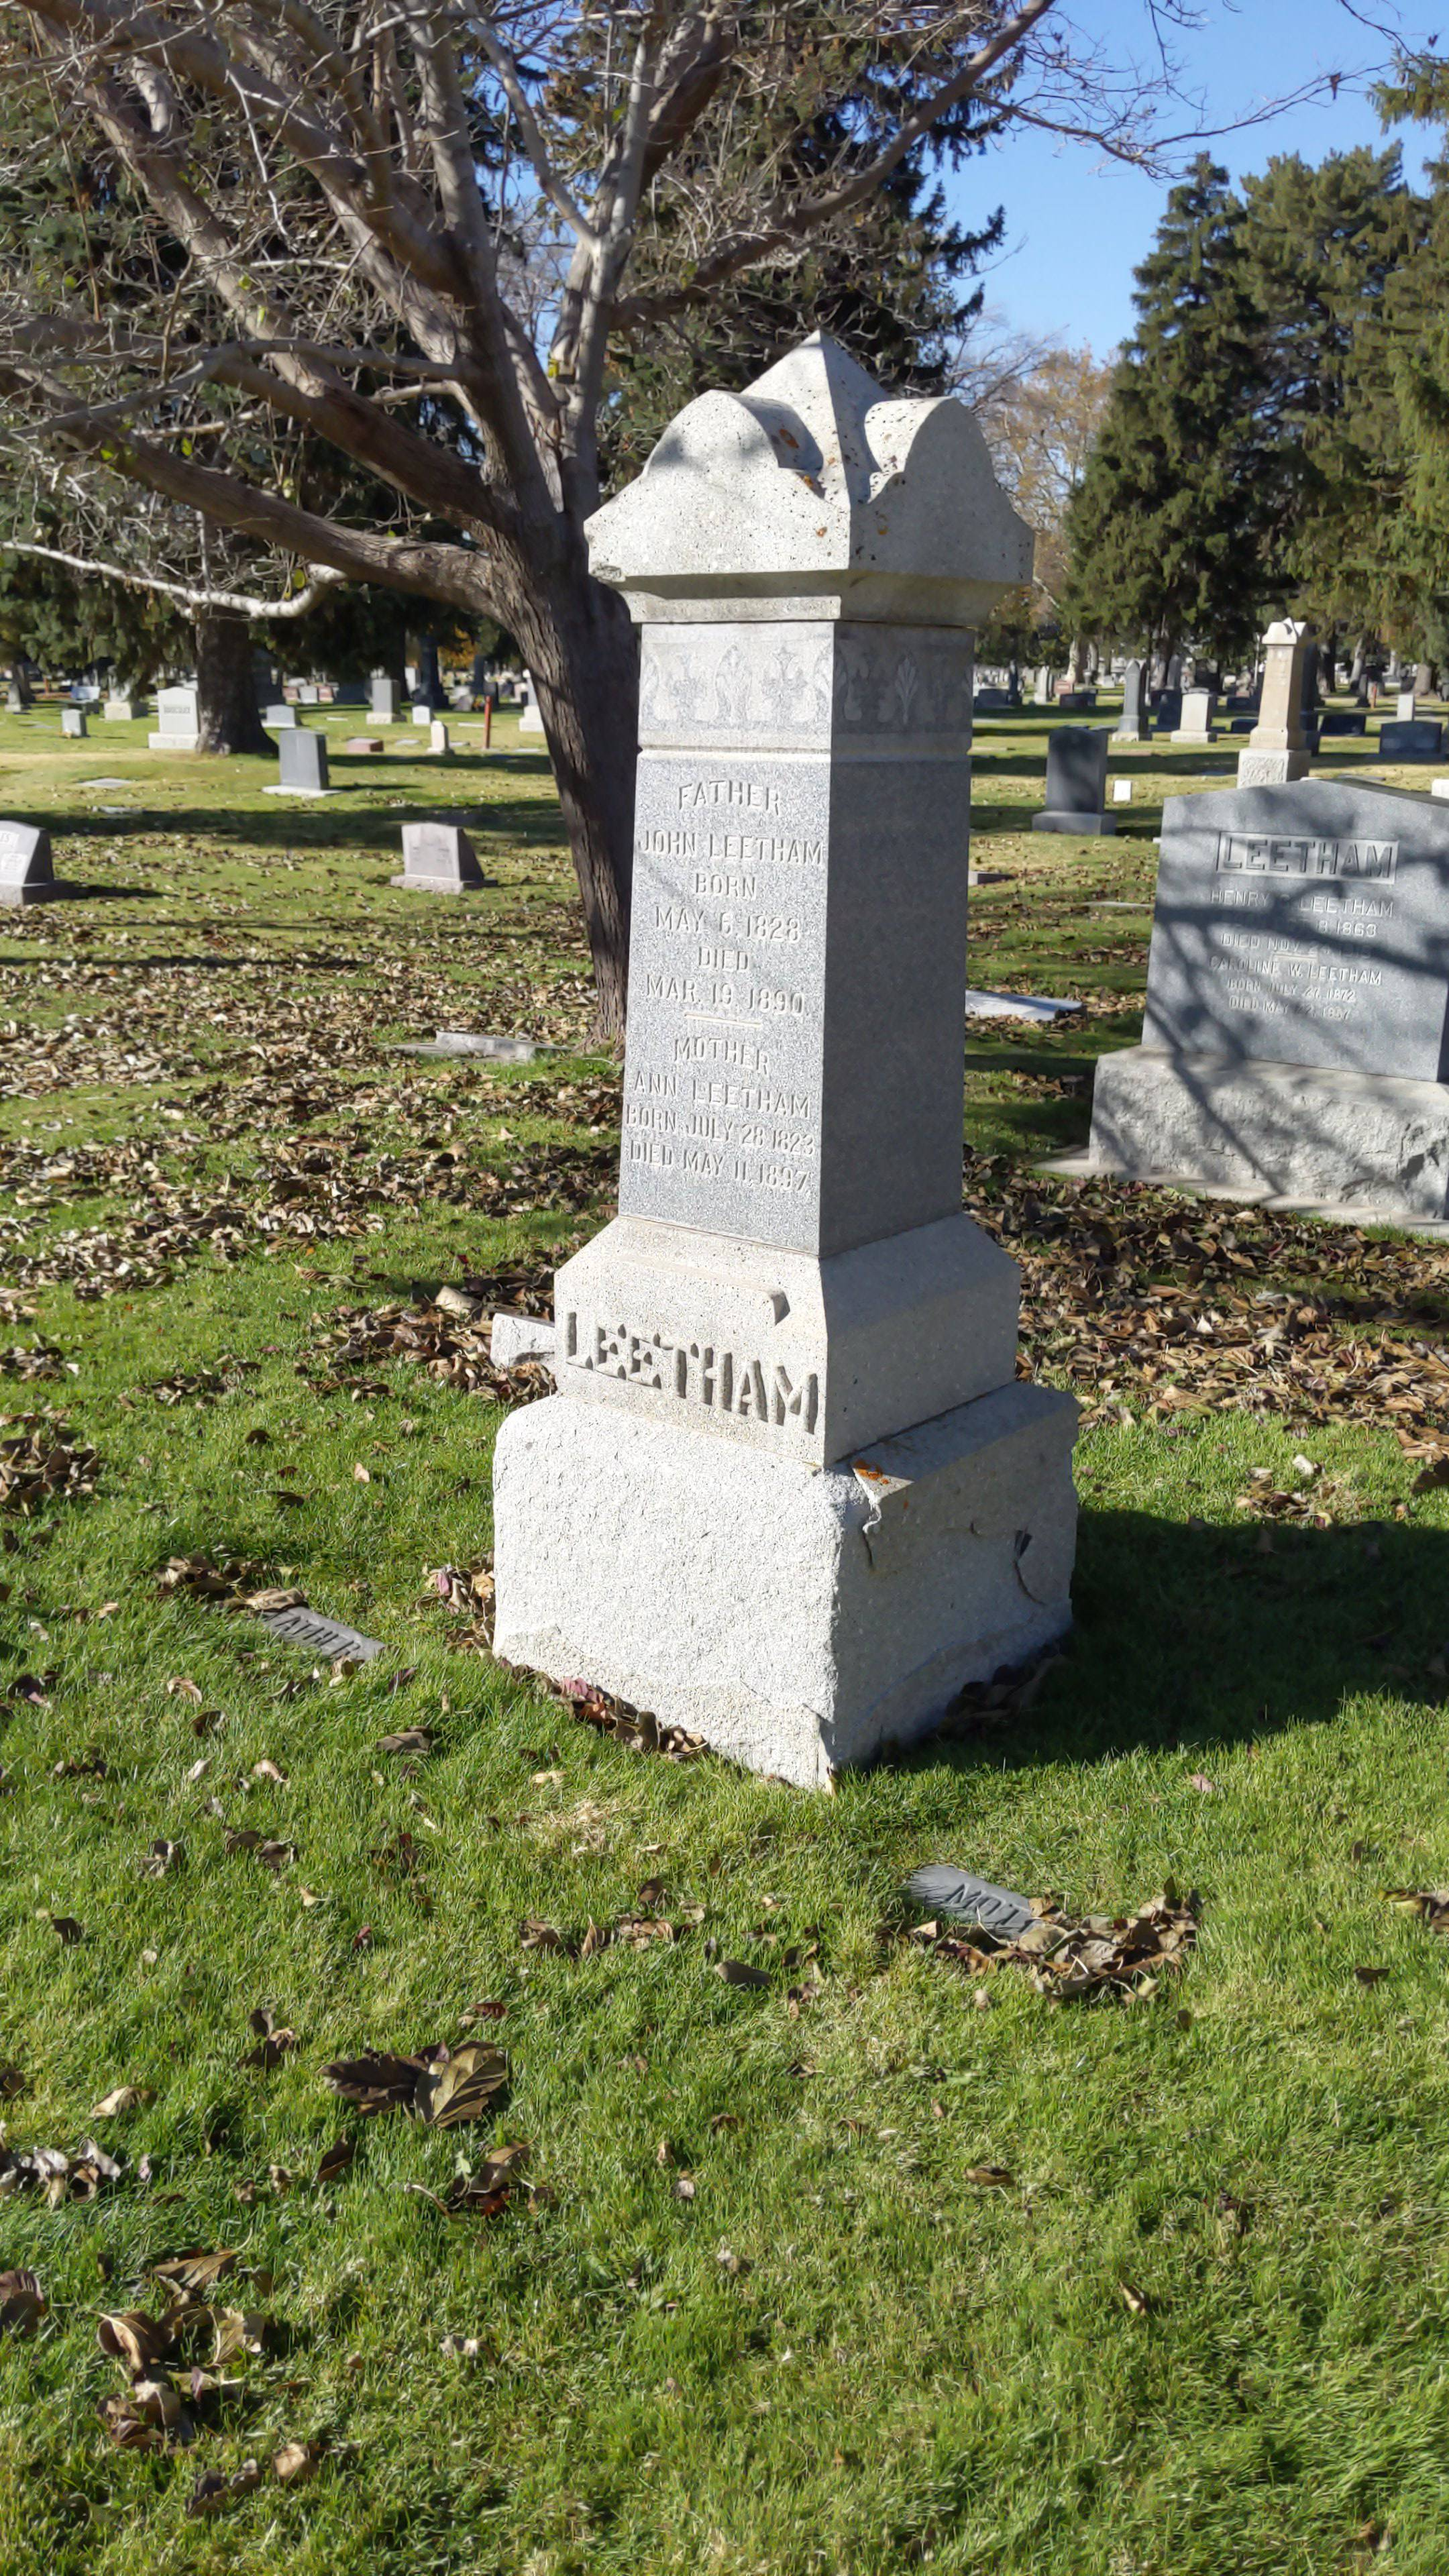obelisk: (550, 326, 1028, 1465)
